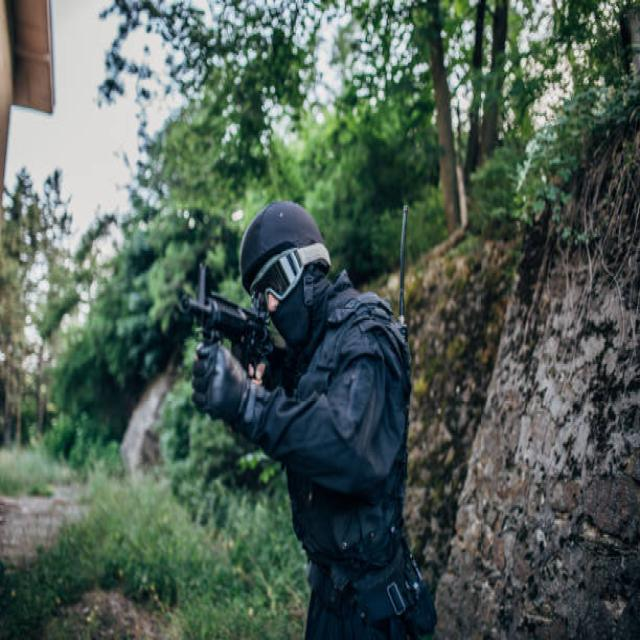soldier: (179, 158, 452, 640)
